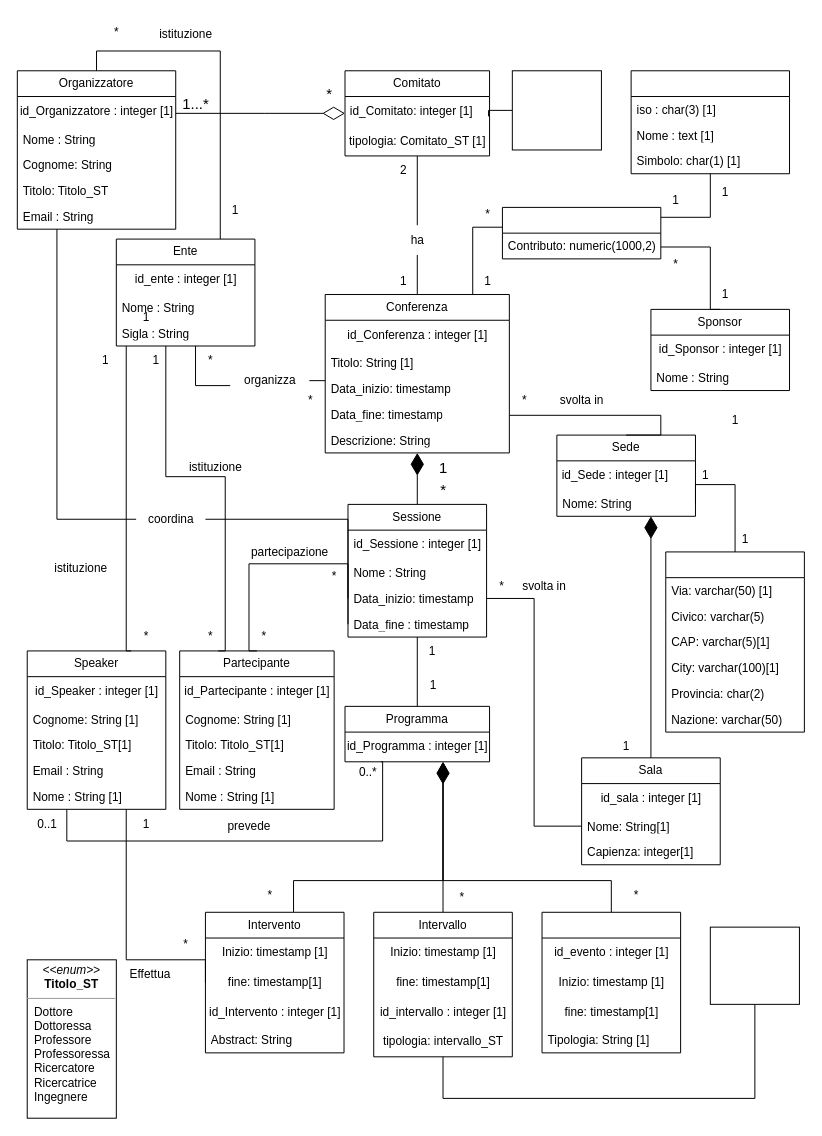
Some shapes in this 822 by 1136 pixel diagram are drawn without their labels. Here are the shapes that lost their labels. From the top down, the box of each, then its label:
(511, 70, 601, 150): <<enum>> Comitato_ST Scientifico Locale
(630, 70, 790, 174): Valuta
(501, 206, 661, 259): Sponsorizzazione
(665, 551, 804, 732): Indirizzo
(541, 911, 681, 1053): Evento Sociale
(709, 926, 799, 1004): <<enum>> Intervallo_ST Pranzo Coffee Break
